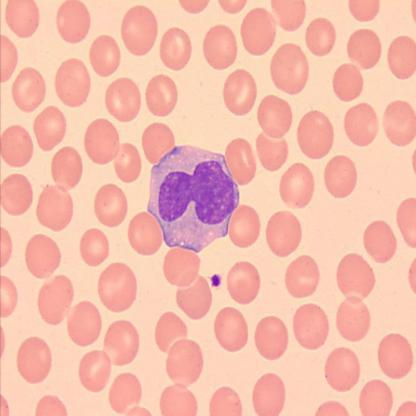Monocyte: (145, 143, 240, 253)
